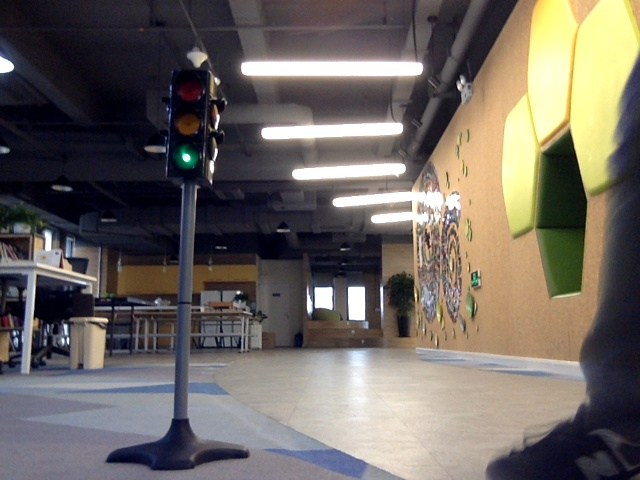green: (167, 76, 205, 178)
